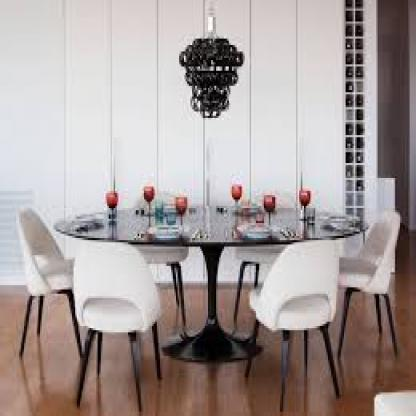Dining Table: (9, 170, 409, 415)
